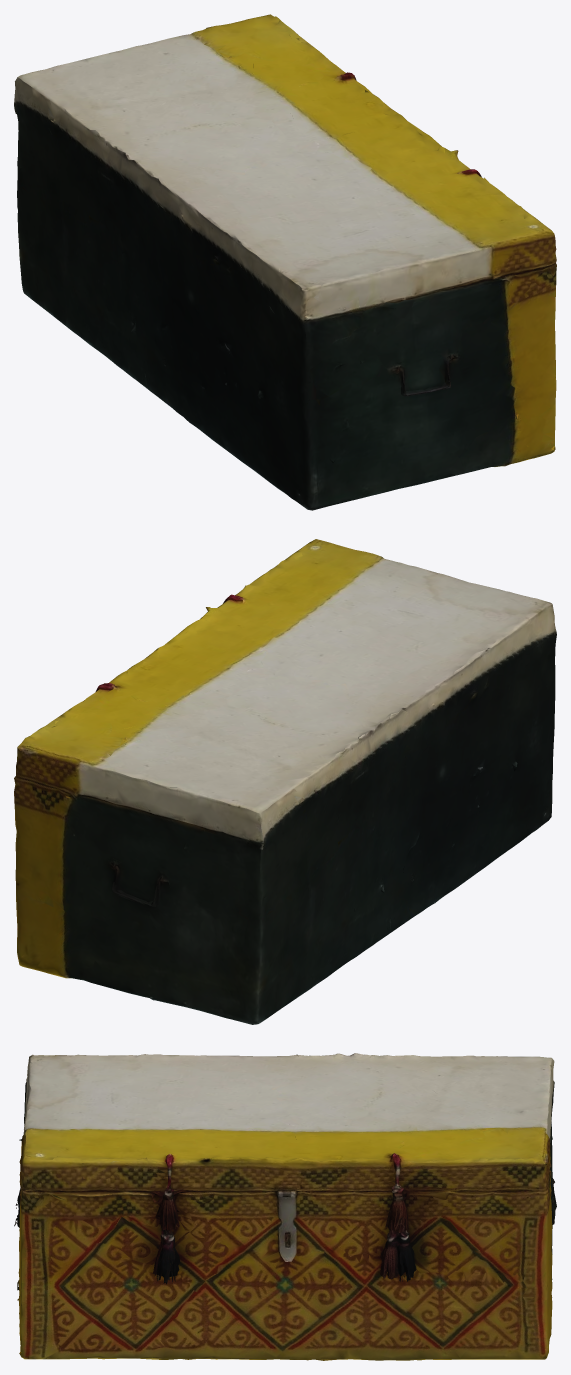
File: sandyq.glb
3 renders of one model, top to bottom at view 1: azimuth 30°, elevation 25°; view 2: azimuth 150°, elevation 25°; view 3: azimuth 270°, elevation 25°, orthographic. The views are drawn at different scales.
Visible parts, largest first — view 1: Polygon Reduction; view 2: Polygon Reduction; view 3: Polygon Reduction.
Part boxes in pixels (x1,y1,x2,y2): Polygon Reduction: (14, 14, 556, 510); Polygon Reduction: (14, 539, 556, 1024); Polygon Reduction: (14, 1053, 556, 1360).
Bounding box in the file's own units: 124 × 94.67 × 226.
Materials: 1 (1 with a texture image).
